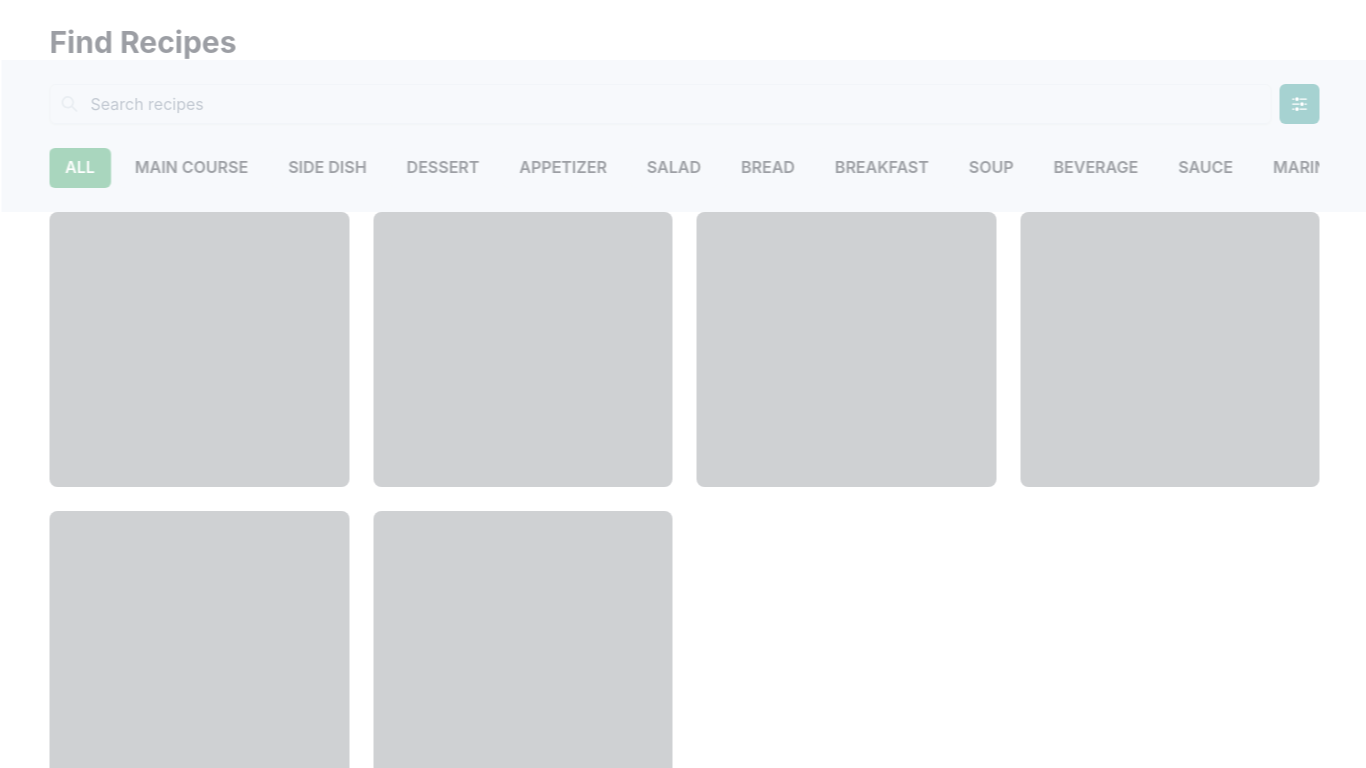
it: <RecipeSearch /> › renders an error if the search fetch fails
Type "tacos" into the search field named "Recipe Query" at x=660, y=104, box [50,84,1272,124]
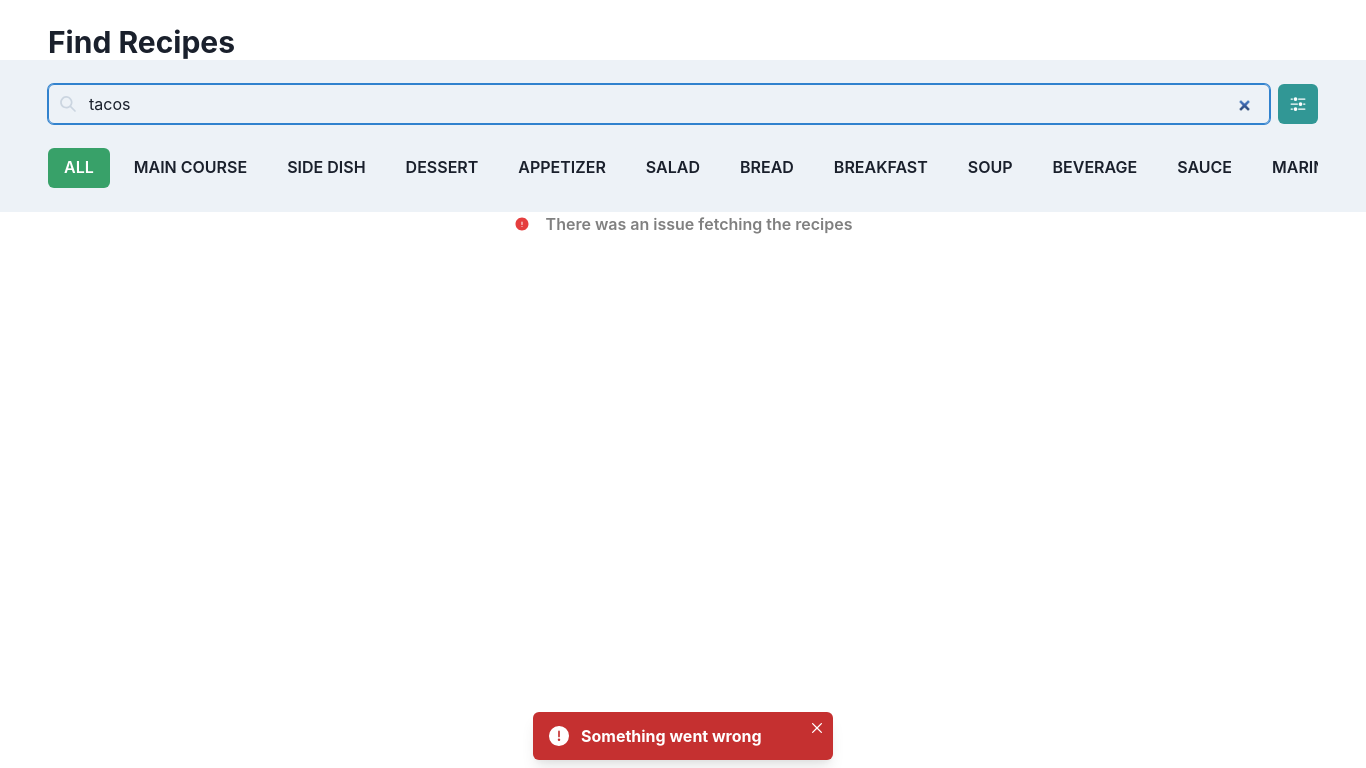
Now the text "There was an issue fetching the recipes" is shown, box [546,212,852,236]
